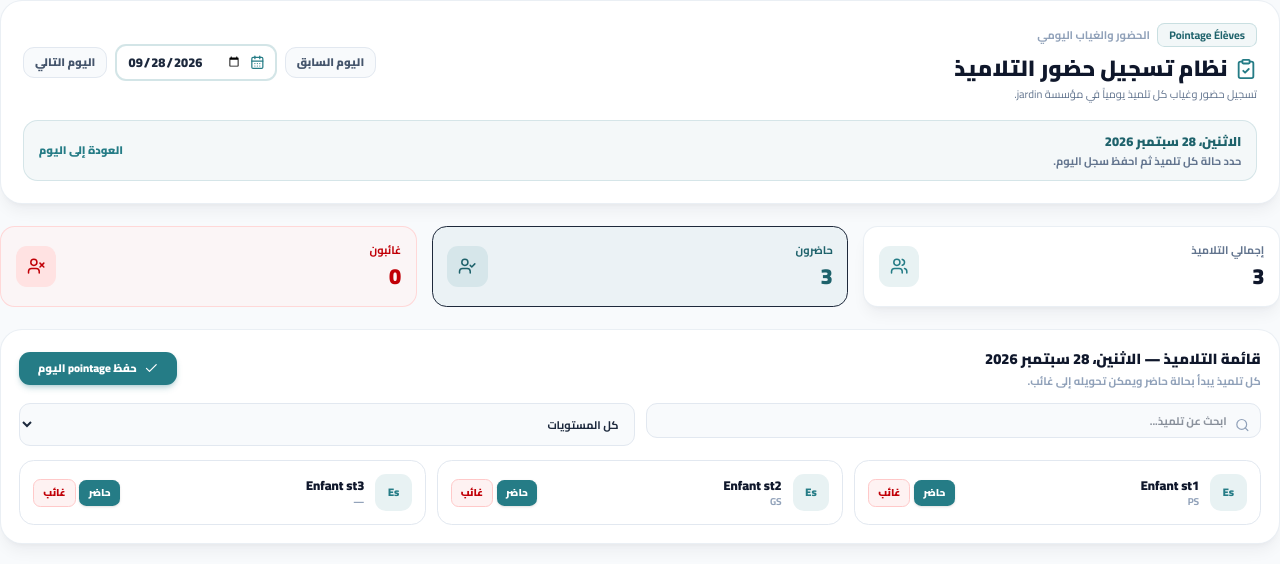
Test case: StudentAttendanceModule — grade filter by center type (revision C, remark 1) › keeps the filter for a formation center and filters by grade (US2 regression)
Select "PS" in the dropdown "كل المستويات": (327, 424) left=19, top=403, right=634, bottom=446
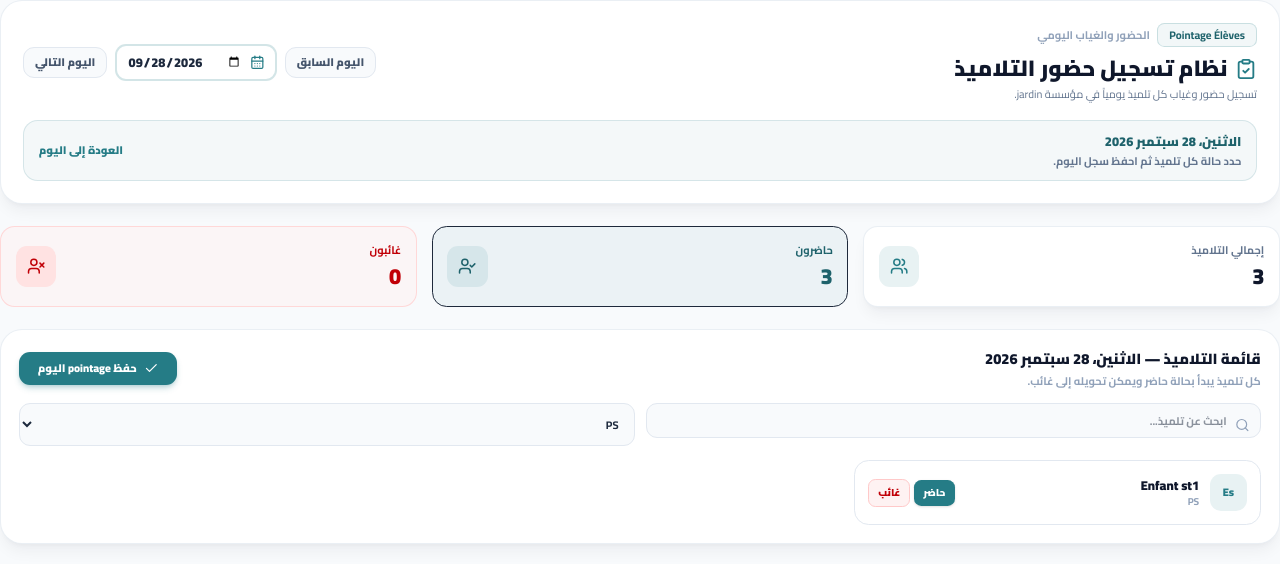
Expected: the text "Enfant st1" is shown, left=1141, top=473, right=1199, bottom=497
Expected: the text "Enfant st2" is gone
Expected: the text "Enfant st3" is gone
